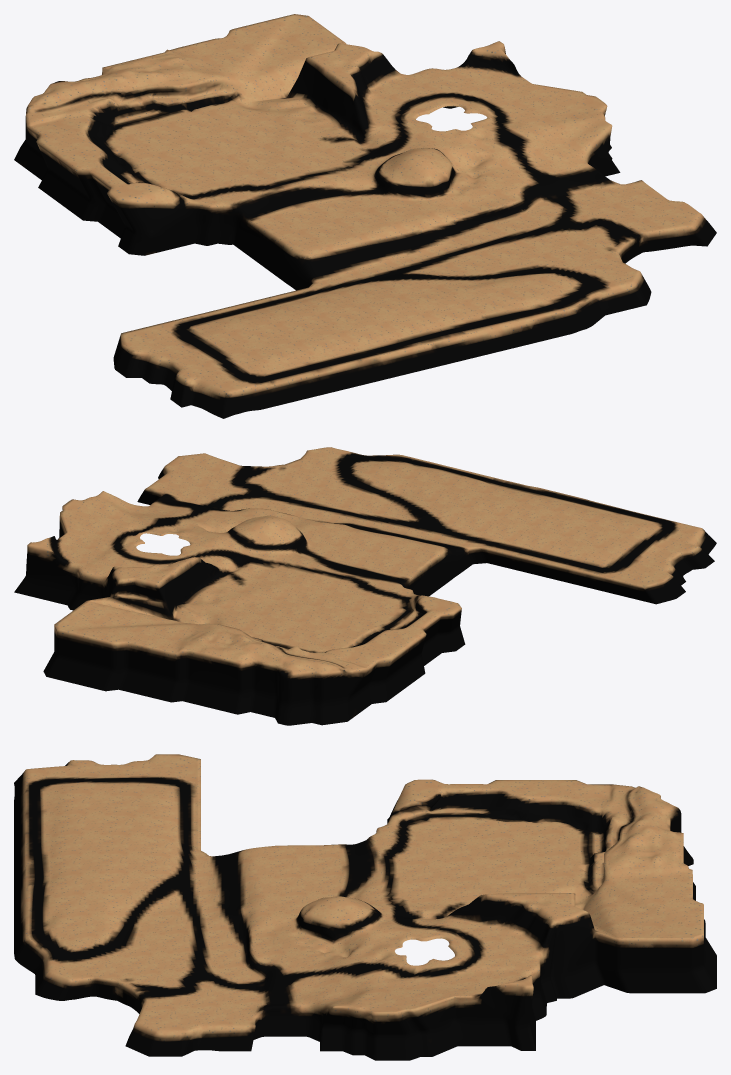
File: land.glb
3 views of the same model, one above another, from view 1: azimuth 30°, elevation 25°; view 2: azimuth 150°, elevation 25°; view 3: azimuth 270°, elevation 25° (orthographic). The views are drawn at different scales.
Parts seen in each view (by area): view 1: land_01_Retopo.001; view 2: land_01_Retopo.001; view 3: land_01_Retopo.001.
Part boxes in pixels (bbox=[...]): land_01_Retopo.001: bbox=[14, 14, 716, 418]; land_01_Retopo.001: bbox=[14, 447, 716, 725]; land_01_Retopo.001: bbox=[14, 754, 716, 1060].
Bounding box in the file's own units: 20.36 × 2.22 × 20.65.
1 material, 1 textured.
